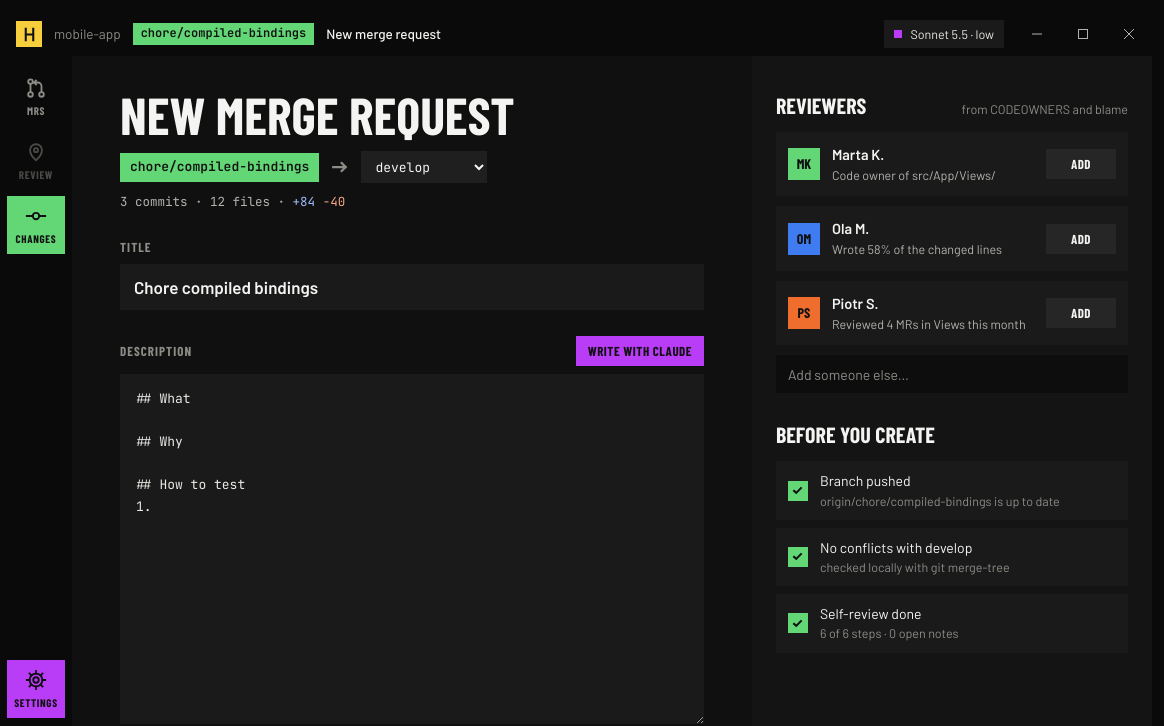
Test: S-11 title and description (F-27.2) › F-27.2 Write with Claude asks once, shows Writing… while it runs, then fills the title and the description and labels the field
The image size is (1164, 726).
Expected: the field labelled "Title" is not empty, [120, 264, 704, 310]
Click the button "Write with Claude": (640, 351) [576, 336, 704, 366]
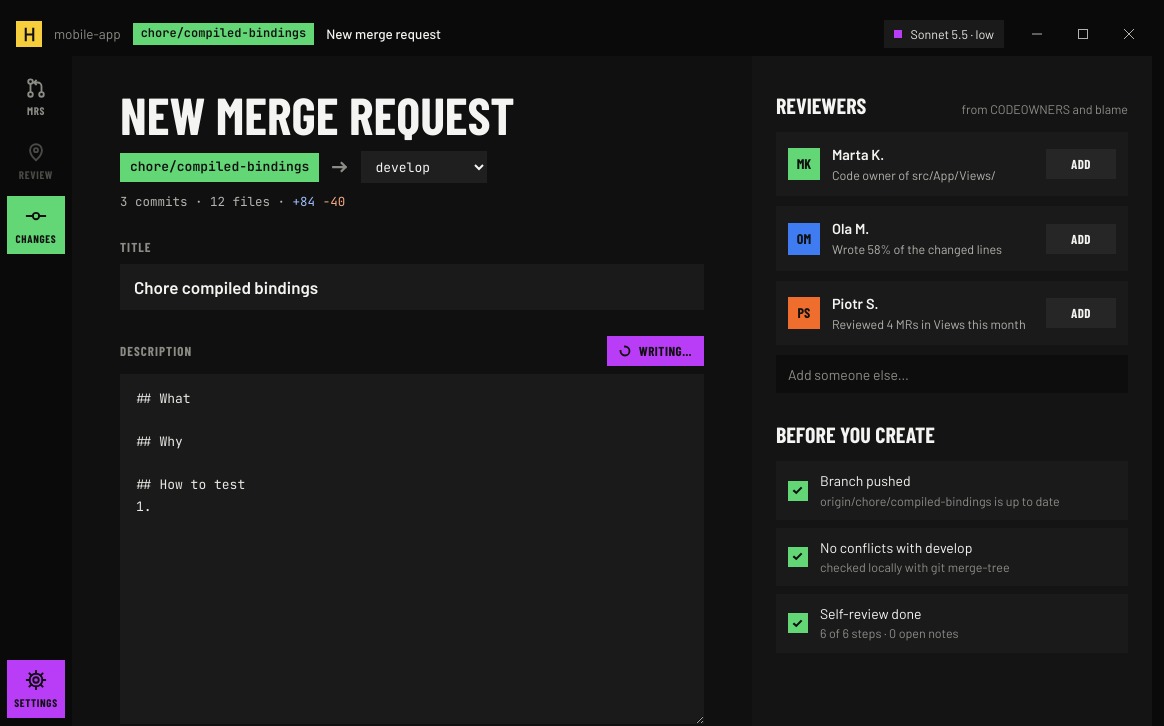
Expected: the button "Writing…" is disabled
Click the button "Writing…": (655, 351) [607, 336, 704, 366]
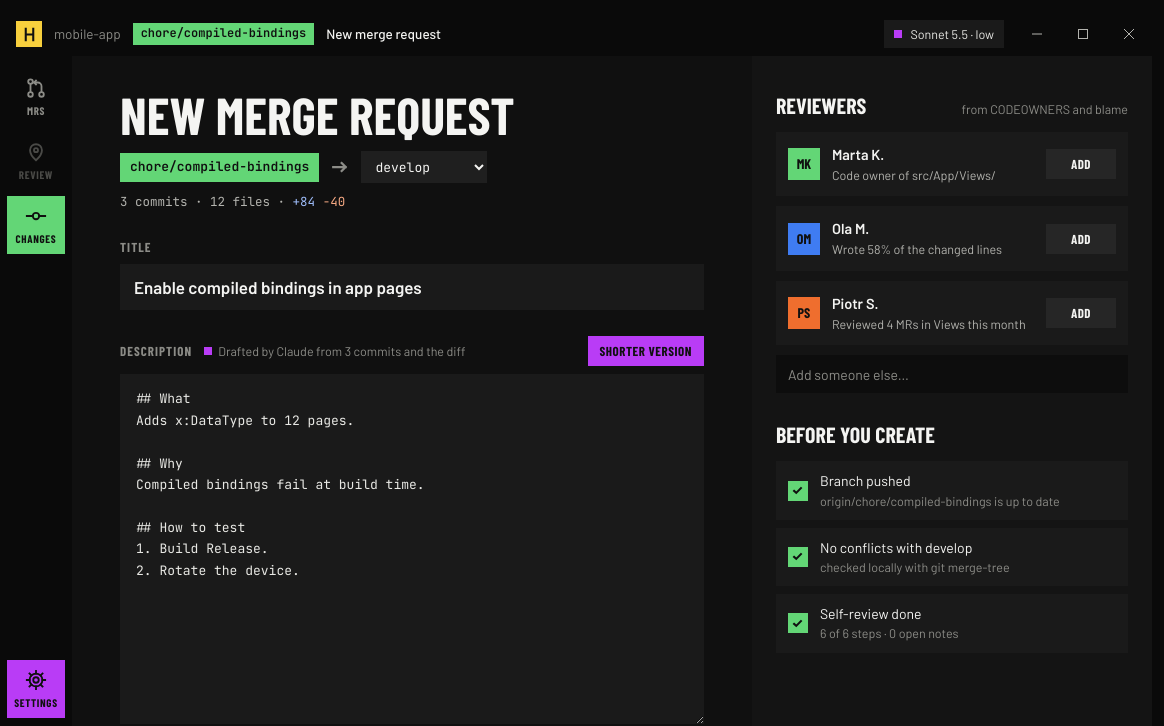
Expected: the button "Shorter version" is enabled, [588, 336, 704, 366]
Expected: the field labelled "Title" holds "Enable compiled bindings in app pages", [120, 264, 704, 310]
Expected: the text "Drafted by Claude from 3 commits and the diff" is shown, [204, 342, 466, 360]
